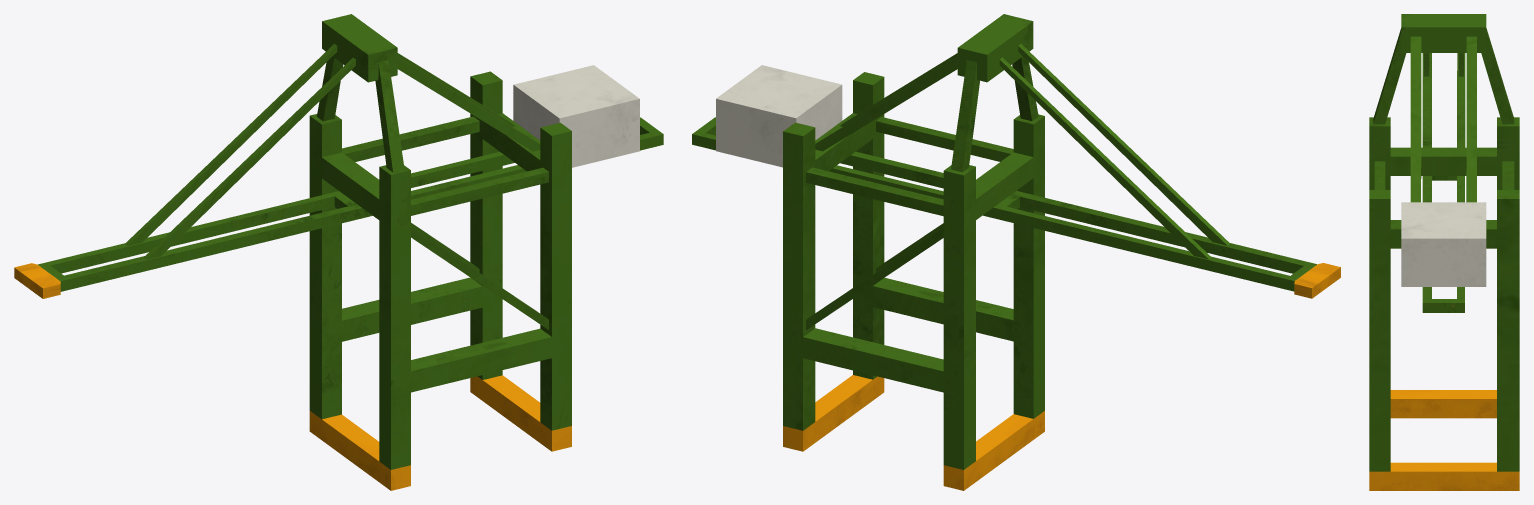
The model's file is rmqc.glb.
3 views of the same model, side by side, from view 1: azimuth 30°, elevation 25°; view 2: azimuth 150°, elevation 25°; view 3: azimuth 270°, elevation 25° (orthographic). The views are drawn at different scales.
Parts seen in each view (by area): view 1: mesh3d_005, mesh3d_147, mesh3d_014, mesh3d_011, mesh3d_102, mesh3d_009, mesh3d_115, mesh3d_060, mesh3d_100, mesh3d_186, mesh3d_158, mesh3d_141 (+33 smaller); view 2: mesh3d_005, mesh3d_147, mesh3d_015, mesh3d_011, mesh3d_159, mesh3d_046, mesh3d_072, mesh3d_055, mesh3d_057, mesh3d_114, mesh3d_101, mesh3d_152 (+33 smaller); view 3: mesh3d_065, mesh3d_012, mesh3d_003, mesh3d_011, mesh3d_110, mesh3d_047, mesh3d_091, mesh3d_038, mesh3d_172, mesh3d_142, mesh3d_177, mesh3d_126 (+16 smaller).
Part boxes in pixels (left/top/right/bottom): mesh3d_005: left=309, top=116, right=390, bottom=469; mesh3d_147: left=470, top=76, right=551, bottom=336; mesh3d_014: left=559, top=99, right=639, bottom=167; mesh3d_011: left=514, top=65, right=639, bottom=118; mesh3d_102: left=552, top=131, right=571, bottom=316; mesh3d_009: left=60, top=208, right=362, bottom=291; mesh3d_115: left=411, top=337, right=551, bottom=392; mesh3d_060: left=51, top=196, right=334, bottom=273; mesh3d_100: left=391, top=242, right=410, bottom=375; mesh3d_186: left=342, top=286, right=482, bottom=341; mesh3d_158: left=322, top=207, right=341, bottom=325; mesh3d_141: left=128, top=46, right=337, bottom=245; mesh3d_005: left=964, top=116, right=1044, bottom=418; mesh3d_147: left=803, top=77, right=884, bottom=336; mesh3d_015: left=716, top=99, right=796, bottom=167; mesh3d_011: left=716, top=65, right=841, bottom=117; mesh3d_159: left=783, top=131, right=802, bottom=316; mesh3d_046: left=993, top=207, right=1294, bottom=291; mesh3d_072: left=803, top=337, right=943, bottom=392; mesh3d_055: left=1020, top=196, right=1303, bottom=273; mesh3d_057: left=943, top=242, right=963, bottom=376; mesh3d_114: left=873, top=286, right=1013, bottom=341; mesh3d_101: left=1013, top=207, right=1033, bottom=325; mesh3d_152: left=999, top=60, right=1208, bottom=259; mesh3d_065: left=1369, top=199, right=1519, bottom=471; mesh3d_012: left=1401, top=238, right=1486, bottom=286; mesh3d_003: left=1369, top=126, right=1519, bottom=189; mesh3d_011: left=1401, top=202, right=1486, bottom=238; mesh3d_110: left=1369, top=471, right=1496, bottom=490; mesh3d_047: left=1390, top=399, right=1496, bottom=418; mesh3d_091: left=1410, top=36, right=1421, bottom=202; mesh3d_038: left=1466, top=36, right=1476, bottom=202; mesh3d_172: left=1429, top=27, right=1486, bottom=52; mesh3d_142: left=1401, top=14, right=1486, bottom=27; mesh3d_177: left=1390, top=462, right=1496, bottom=471; mesh3d_126: left=1373, top=33, right=1406, bottom=124.
Bounding box in the file's own units: 75.13 × 48.9 × 16.99.
1 material, 1 textured.
